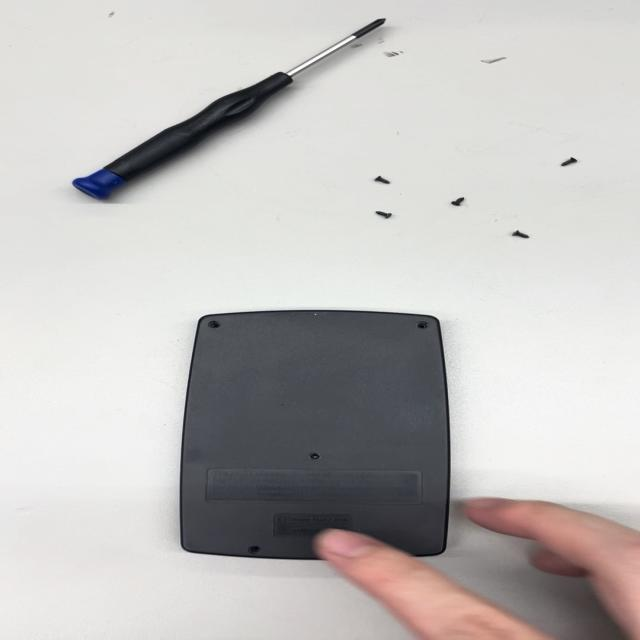back_cover: (170, 306, 462, 559)
screw: (556, 152, 585, 172), (366, 174, 395, 189), (445, 194, 468, 212), (508, 226, 533, 242), (369, 208, 397, 220)
screw_driver: (58, 11, 396, 207)
